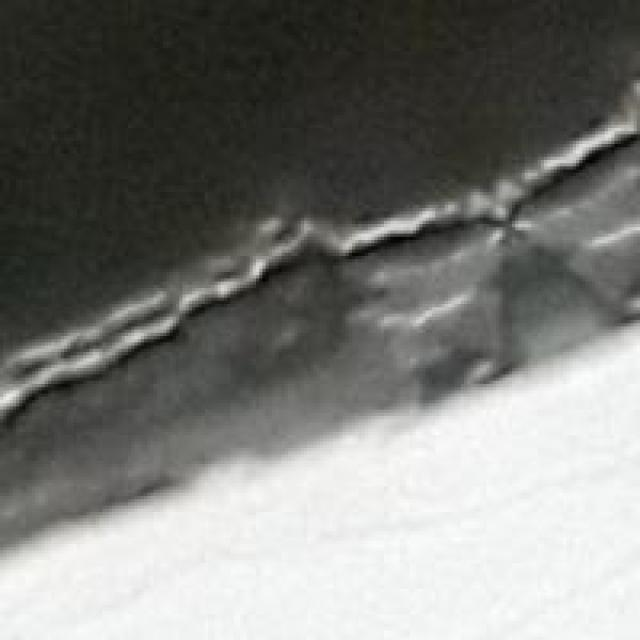crack: (0, 83, 637, 525)
